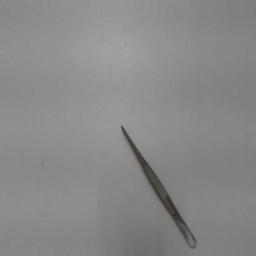Gillies Toothed Dissector: (116, 116, 200, 250)
